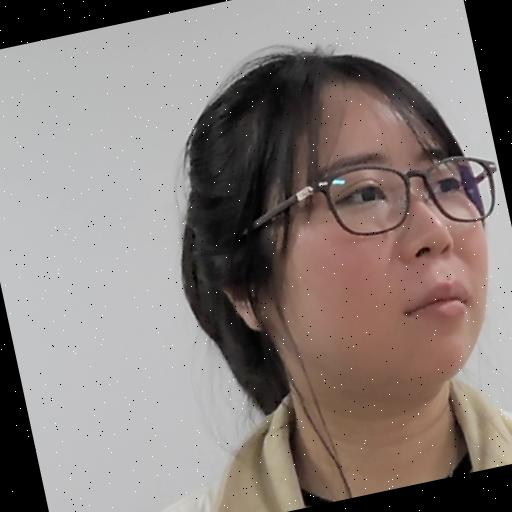no_glasses: (163, 21, 512, 436)
